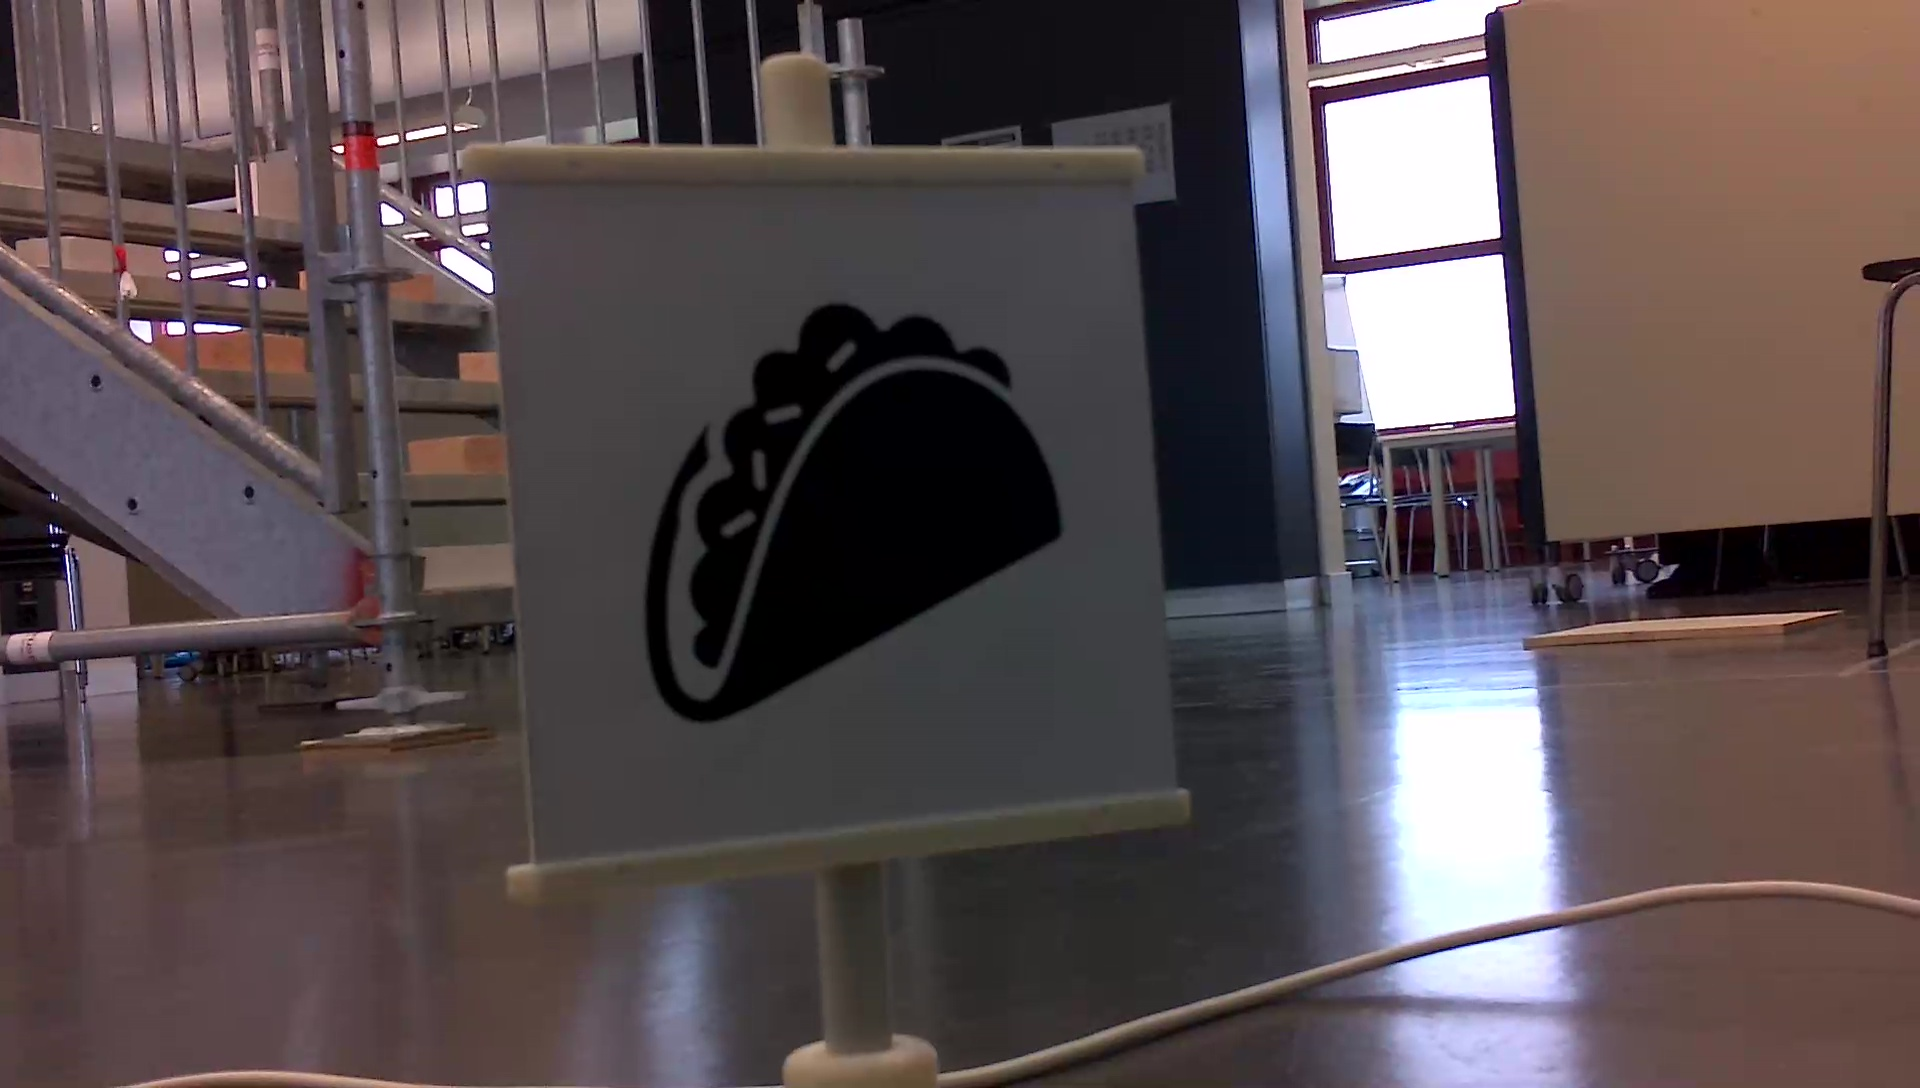brick: (407, 433, 508, 471), (425, 541, 512, 583), (458, 349, 498, 378)
taco: (626, 287, 1077, 731)
